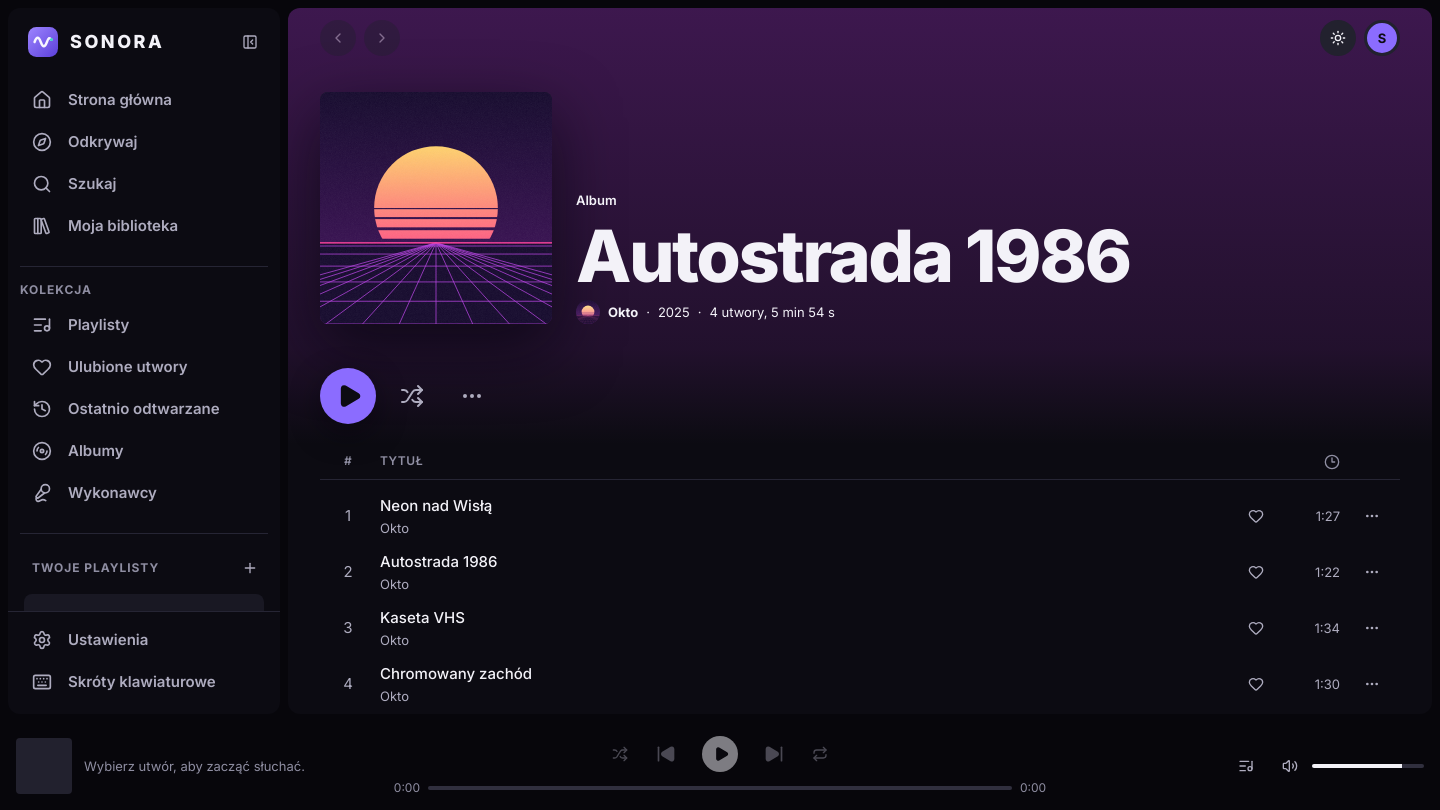
Scenario: odtwarzacz › informuje, gdy przeglądarka zablokuje odtwarzanie
Click the button named "Odtwórz: Autostrada 1986": (348, 396) [320,368,376,424]
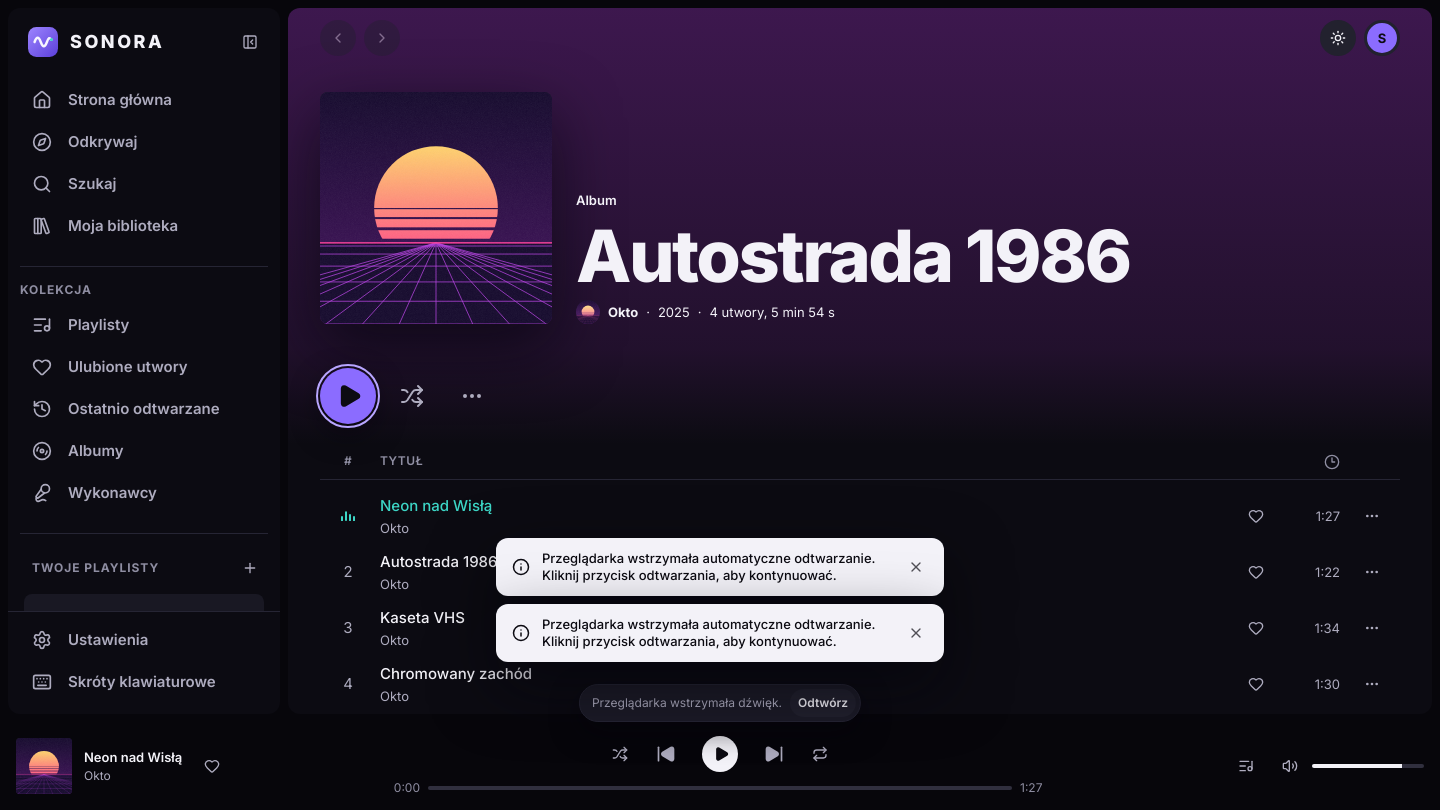
Expected: the text "Przeglądarka wstrzymała dźwięk." is shown, [592,694,782,712]
